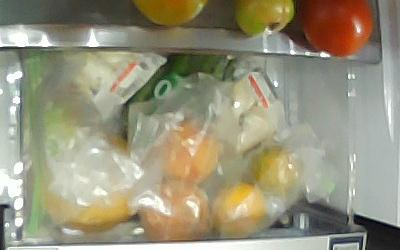peach_vinyl: (140, 178, 211, 241), (155, 124, 220, 182)
tangerine_vinyl: (210, 182, 266, 235), (253, 144, 300, 196)
